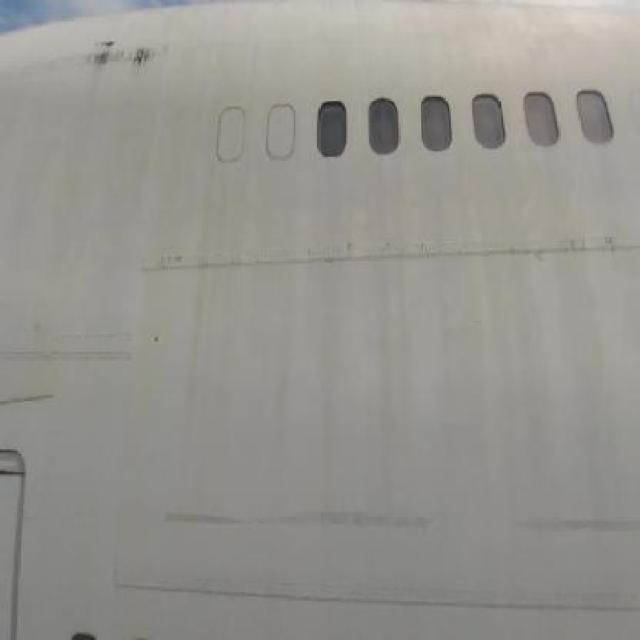Rust: (84, 27, 181, 76)
Scartch: (144, 481, 640, 547)
